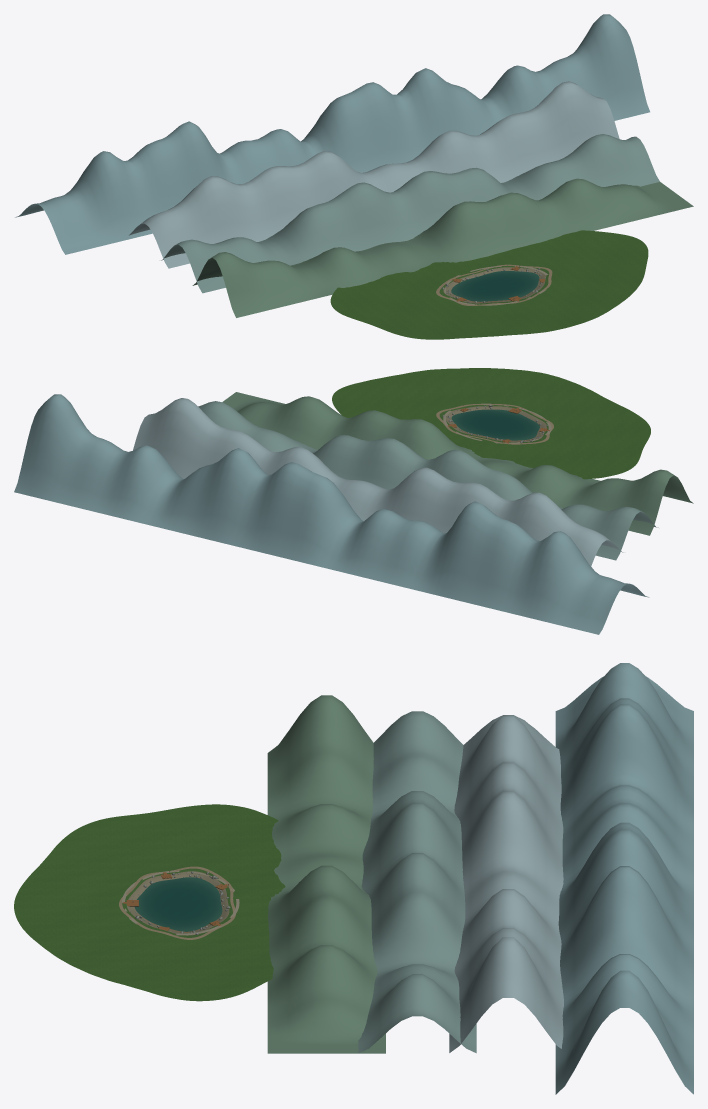
The model's file is environment.glb.
3 renders of one model, top to bottom at view 1: azimuth 30°, elevation 25°; view 2: azimuth 150°, elevation 25°; view 3: azimuth 270°, elevation 25°, orthographic. The views are drawn at different scales.
Visible parts, largest first — view 1: V2 distant ridge extension.001, Distant mountain ridge 3.001, Distant mountain ridge 1.001, Lake natural shoreline and terrain.001, Distant mountain ridge 2.001, Lake freshwater surface.001; view 2: V2 distant ridge extension.001, Lake natural shoreline and terrain.001, Distant mountain ridge 3.001, Distant mountain ridge 1.001, Distant mountain ridge 2.001, Lake freshwater surface.001, Lakeside walking path.001; view 3: V2 distant ridge extension.001, Lake natural shoreline and terrain.001, Distant mountain ridge 1.001, Distant mountain ridge 3.001, Distant mountain ridge 2.001, Lake freshwater surface.001, Lakeside walking path.001.
Part boxes in pixels (bbox=[...]): V2 distant ridge extension.001: bbox=[15, 14, 649, 254]; Distant mountain ridge 3.001: bbox=[129, 81, 619, 268]; Distant mountain ridge 1.001: bbox=[192, 178, 693, 317]; Lake natural shoreline and terrain.001: bbox=[330, 230, 648, 339]; Distant mountain ridge 2.001: bbox=[161, 134, 659, 293]; Lake freshwater surface.001: bbox=[451, 271, 539, 301]; V2 distant ridge extension.001: bbox=[14, 394, 649, 634]; Lake natural shoreline and terrain.001: bbox=[332, 368, 650, 479]; Distant mountain ridge 3.001: bbox=[133, 398, 623, 566]; Distant mountain ridge 1.001: bbox=[222, 392, 693, 535]; Distant mountain ridge 2.001: bbox=[198, 401, 658, 560]; Lake freshwater surface.001: bbox=[451, 409, 539, 440]; Lakeside walking path.001: bbox=[436, 404, 553, 444]; V2 distant ridge extension.001: bbox=[555, 663, 693, 1094]; Lake natural shoreline and terrain.001: bbox=[14, 804, 285, 1001]; Distant mountain ridge 1.001: bbox=[267, 695, 385, 1053]; Distant mountain ridge 3.001: bbox=[449, 715, 563, 1052]; Distant mountain ridge 2.001: bbox=[358, 711, 476, 1053]; Lake freshwater surface.001: bbox=[134, 877, 222, 931]; Lakeside walking path.001: bbox=[119, 866, 235, 939].
Size of the model in its own units: 230 by 32.02 by 172.
17 materials, 3 textured.
